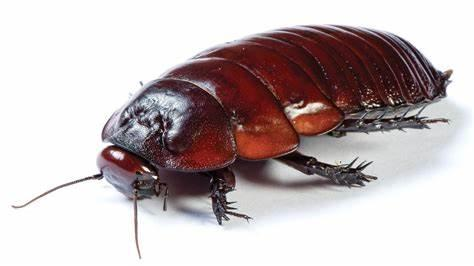cockroach: (96, 23, 458, 225)
